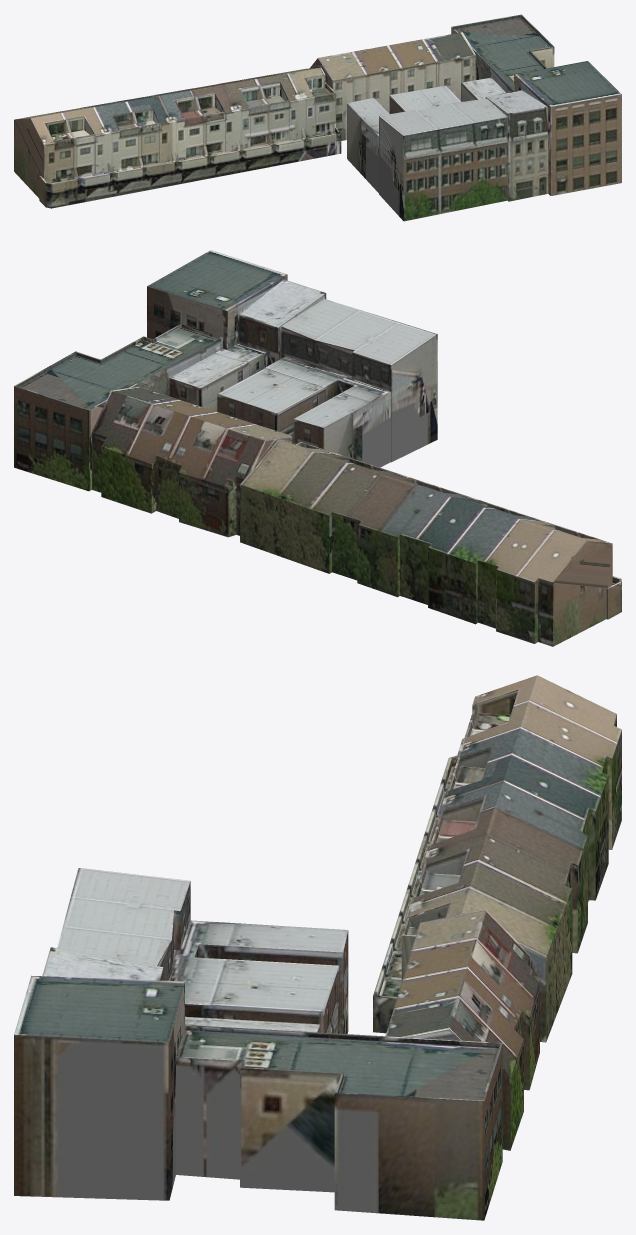
The model's file is Buildings_subset_86.dae.
The picture shows the model from 3 angles, top to bottom: view 1: azimuth 30°, elevation 25°; view 2: azimuth 150°, elevation 25°; view 3: azimuth 270°, elevation 25°; orthographic projection. The views are drawn at different scales.
Parts seen in each view (by area): view 1: Buildings_subset_86.dae (×22); view 2: Buildings_subset_86.dae (×30); view 3: Buildings_subset_86.dae (×19).
Part boxes in pixels (x1,y1,x2,y2): Buildings_subset_86.dae (×22): (14, 14, 621, 221); Buildings_subset_86.dae (×30): (14, 250, 621, 646); Buildings_subset_86.dae (×19): (14, 675, 621, 1220).
Bounding box in the file's own units: 292 × 175 × 53.25.
1 material, 1 textured.
